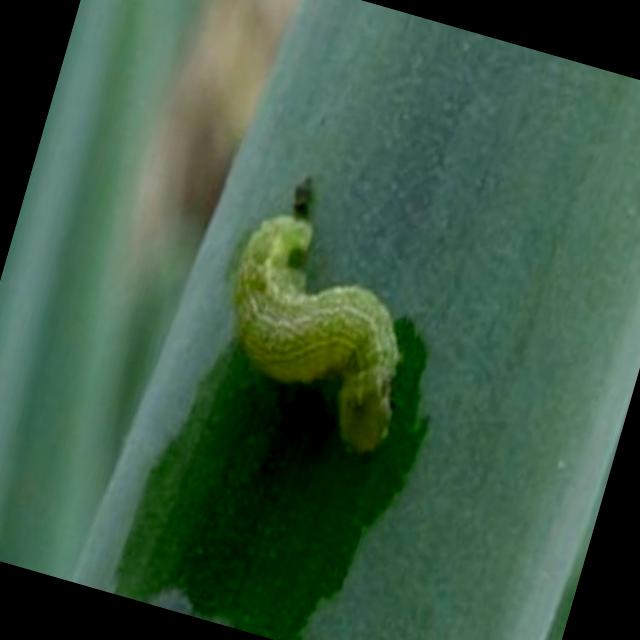Beet armyworm: (125, 134, 502, 521)
